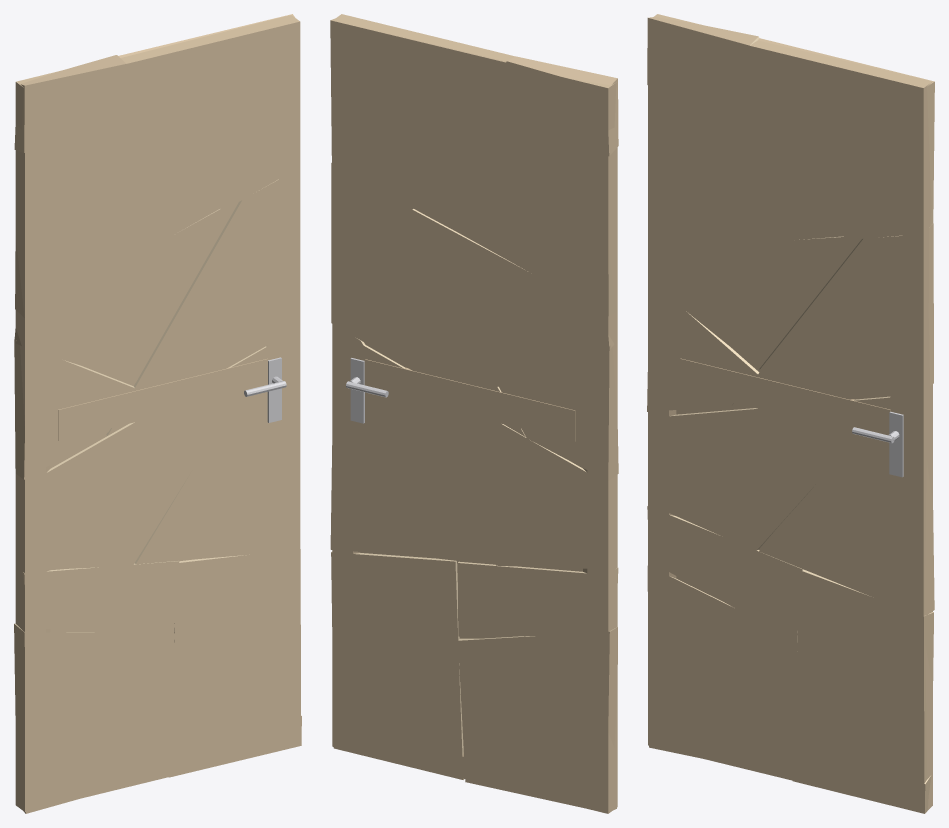
Rendered from door.glb.
3 views of the same model, side by side, from view 1: azimuth 30°, elevation 25°; view 2: azimuth 150°, elevation 25°; view 3: azimuth 330°, elevation 25° (orthographic).
Visible parts, largest first — view 1: door, frag_0, frag_1, frag_4, frag_2, frag_5, frag_6, frag_10, frag_3, frag_7, frag_8, frag_11 (+1 smaller); view 2: door, frag_1, frag_0, frag_2, frag_4, frag_5, frag_3, frag_10, frag_6, frag_7, frag_11, frag_9 (+1 smaller); view 3: door, frag_0, frag_1, frag_4, frag_2, frag_6, frag_3, frag_5, frag_10, frag_7, frag_8, frag_9 (+1 smaller).
Boxes of the visible parts, x1,y1,x2,y2 form: door: (15,15,300,811); frag_0: (15,100,221,317); frag_1: (14,623,174,813); frag_4: (118,14,299,209); frag_2: (25,345,270,570); frag_5: (106,168,299,435); frag_6: (172,549,300,716); frag_10: (14,198,240,382); frag_3: (135,339,299,564); frag_7: (22,561,179,635); frag_8: (169,682,301,777); frag_11: (14,339,134,479); door: (332,14,617,813); frag_1: (458,627,617,812); frag_0: (412,104,617,316); frag_2: (362,345,607,569); frag_4: (330,18,508,209); frag_5: (331,162,525,436); frag_3: (330,323,496,561); frag_10: (391,198,614,386); frag_6: (331,551,459,713); frag_7: (457,561,618,636); frag_11: (498,345,618,480); frag_9: (480,56,618,156); door: (648,14,932,811); frag_0: (648,82,844,251); frag_1: (647,565,797,777); frag_4: (751,38,934,239); frag_2: (648,396,892,551); frag_6: (796,569,933,783); frag_3: (759,388,934,615); frag_5: (731,223,933,408); frag_10: (648,236,862,369); frag_7: (647,506,802,641); frag_8: (792,687,931,813); frag_9: (647,17,774,99).
Size of the model in its own units: 0.8507 by 2.13 by 0.148.
